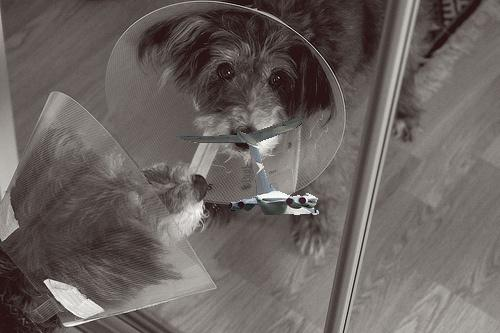tampered: (177, 117, 319, 215)
